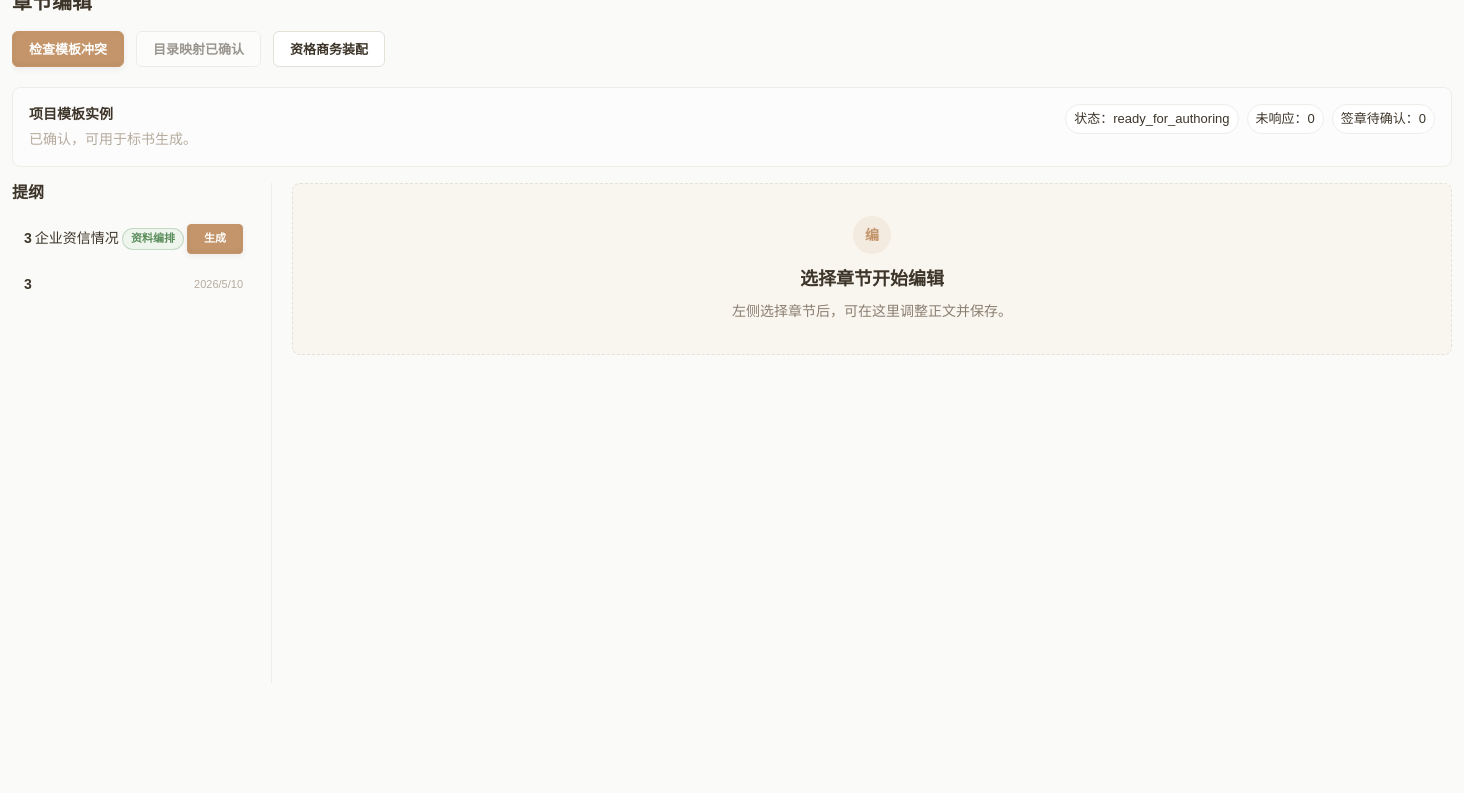
Test: EditorContent chart workflow › shows bound material feedback inside the preview card after binding
Click the button "资格商务装配": [329, 49] box [273,31,385,67]
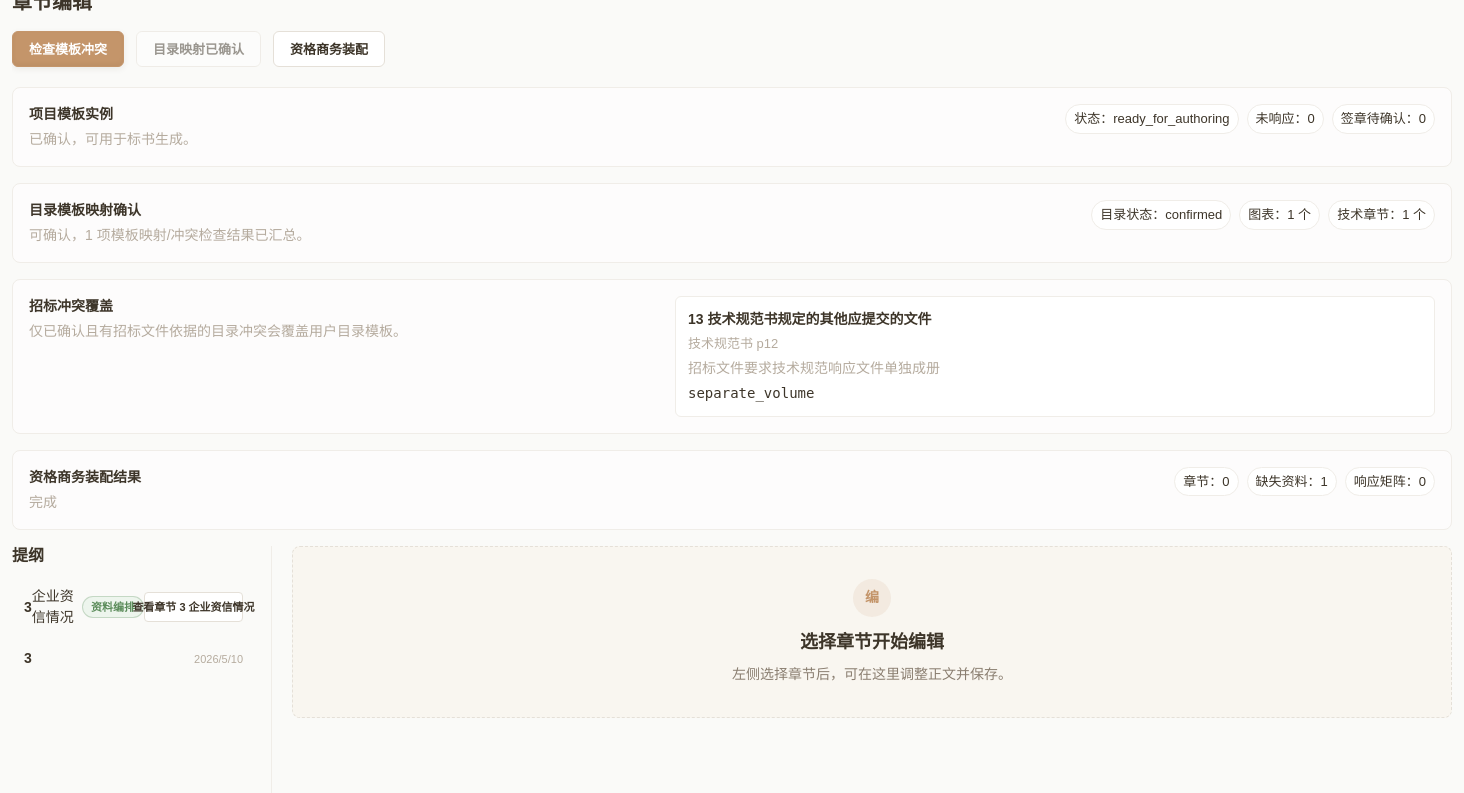
Click the button "查看章节 3 企业资信情况": [194, 607] box [144,592,243,622]
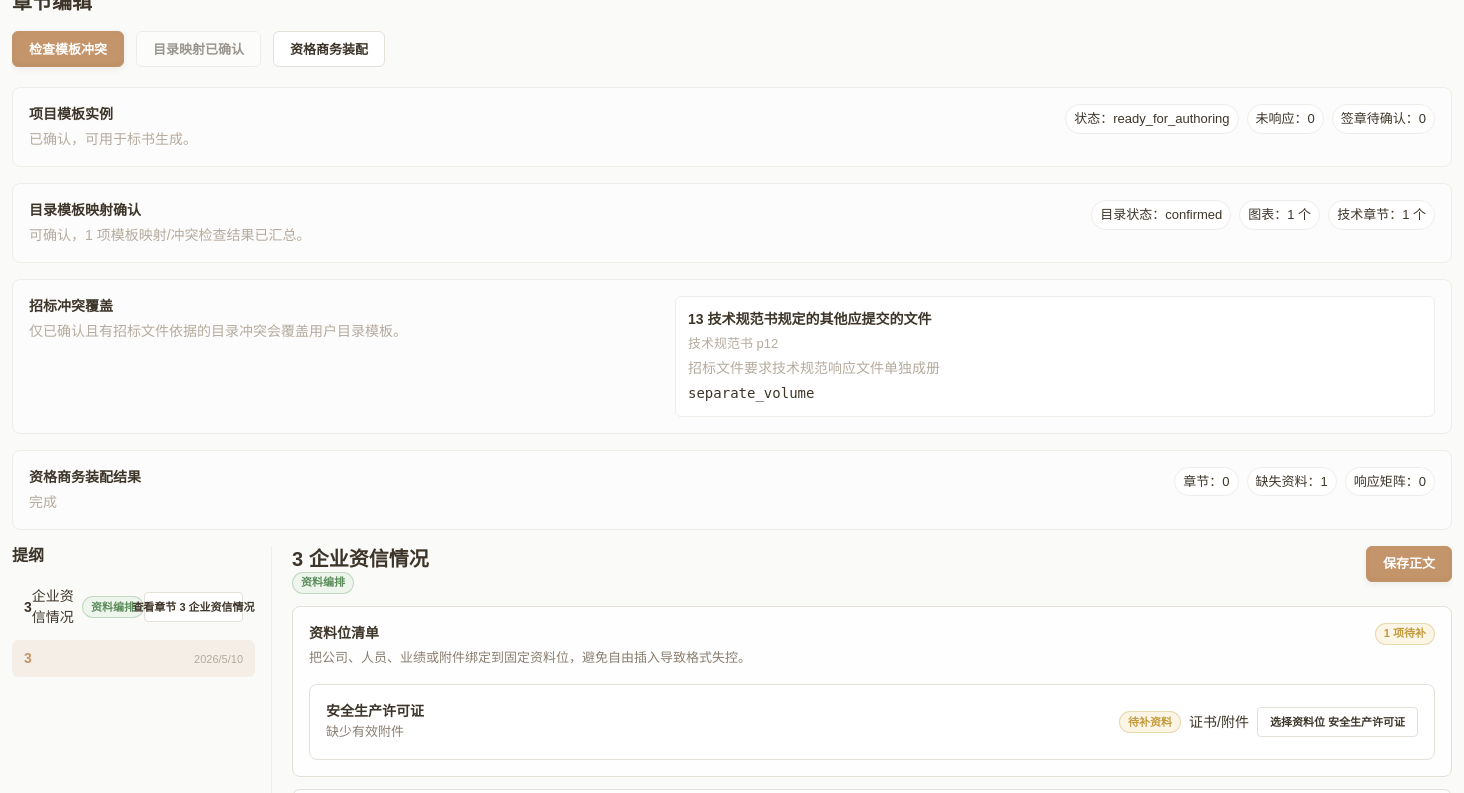
Click the button "选择资料位 安全生产许可证": [1337, 722] box [1257,707,1418,737]
(page scrolled)
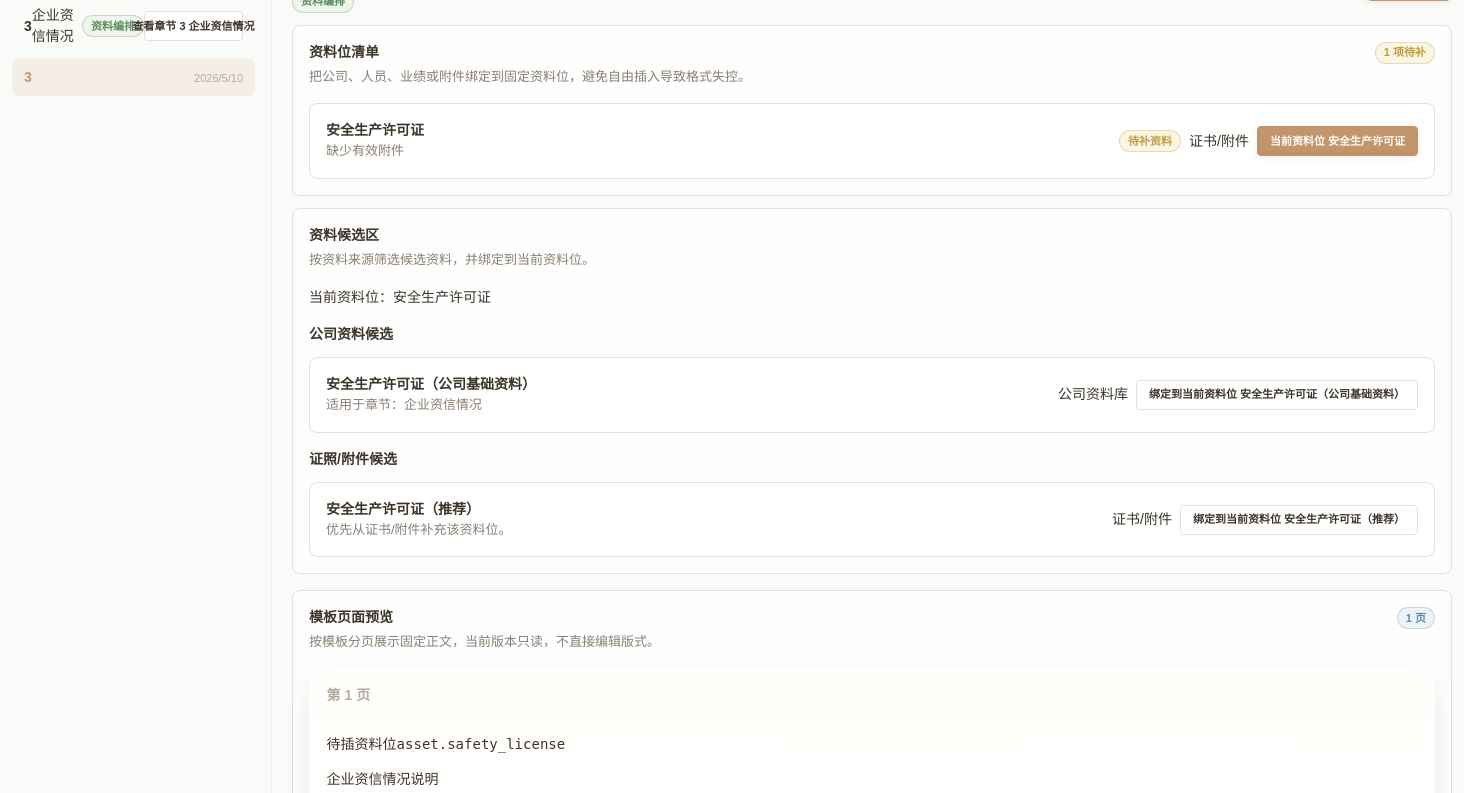
Click the button "绑定到当前资料位 安全生产许可证（公司基础资料）": [1277, 395] box [1136,380,1418,410]
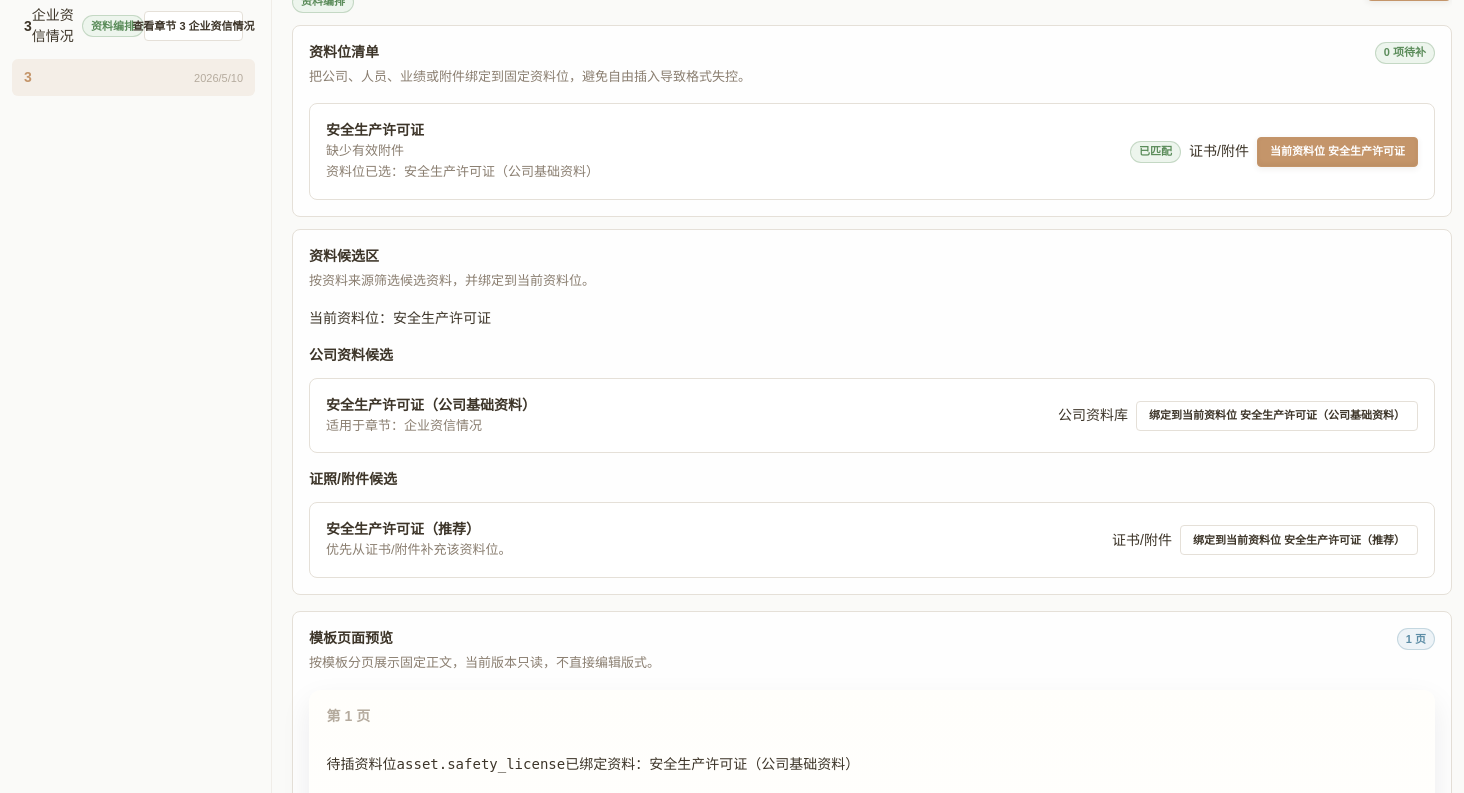
Expected: the text "已绑定资料：安全生产许可证（公司基础资料）" is shown, [565,756,859,772]
